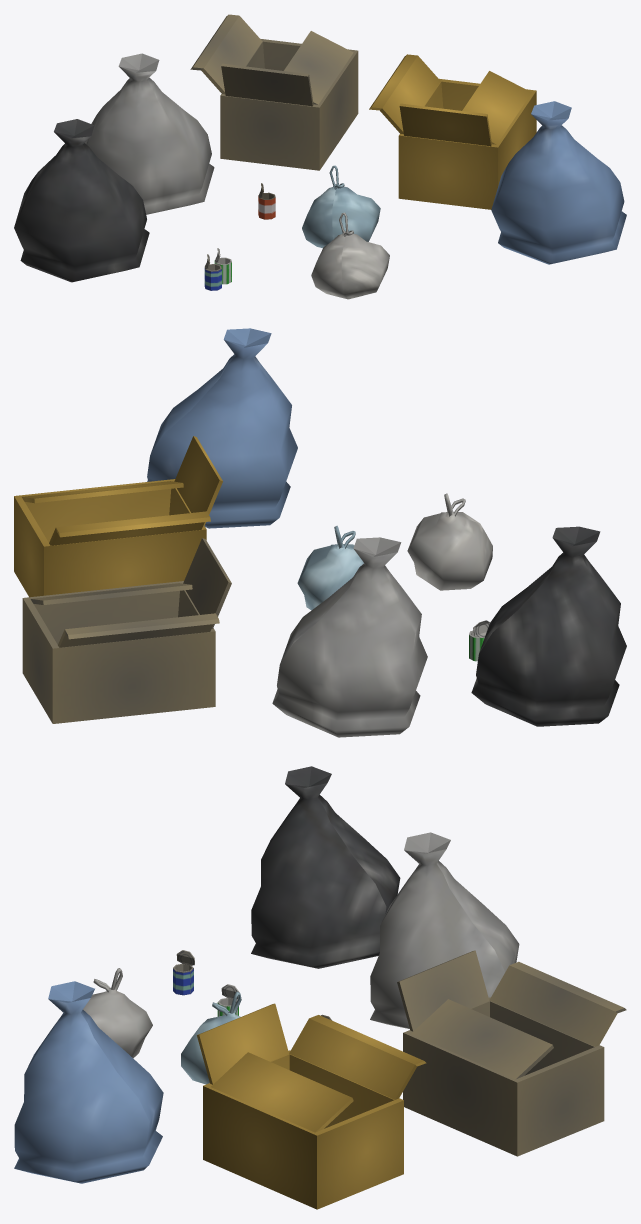
The model's file is lixo_mod.fbx.
3 renders of one model, top to bottom at view 1: azimuth 30°, elevation 25°; view 2: azimuth 150°, elevation 25°; view 3: azimuth 270°, elevation 25°, orthographic. The views are drawn at different scales.
Visible parts, largest first — view 1: Cube.002, Cube.001, Cube.003, Cube.005, Cube.004, Cube.006, Cube.007, Cube.010, Cube.009; view 2: Cube.002, Cube.001, Cube.004, Cube.005, Cube.003, Cube.006, Cube.007; view 3: Cube.001, Cube.002, Cube.003, Cube.005, Cube.004, Cube.006, Cube.007, Cube.009.
Boxes of the visible parts, box(x1,y1,x2,y2) form: Cube.002: box(190, 14, 358, 170); Cube.001: box(369, 54, 536, 209); Cube.003: box(491, 101, 626, 264); Cube.005: box(14, 119, 149, 282); Cube.004: box(85, 53, 214, 214); Cube.006: box(311, 212, 389, 299); Cube.007: box(302, 165, 380, 248); Cube.010: box(258, 183, 275, 219); Cube.009: box(204, 254, 221, 290); Cube.002: box(22, 538, 231, 723); Cube.001: box(14, 436, 222, 597); Cube.004: box(272, 537, 427, 737); Cube.005: box(471, 526, 626, 726); Cube.003: box(147, 328, 297, 528); Cube.006: box(407, 493, 492, 590); Cube.007: box(297, 525, 363, 610); Cube.001: box(197, 1003, 426, 1209); Cube.002: box(397, 950, 626, 1156); Cube.003: box(14, 981, 163, 1183); Cube.005: box(251, 766, 400, 968); Cube.004: box(370, 832, 519, 1028); Cube.006: box(83, 968, 152, 1058); Cube.007: box(181, 991, 241, 1084); Cube.009: box(173, 950, 194, 995).
Size of the model in its own units: 139 by 40.49 by 123.
